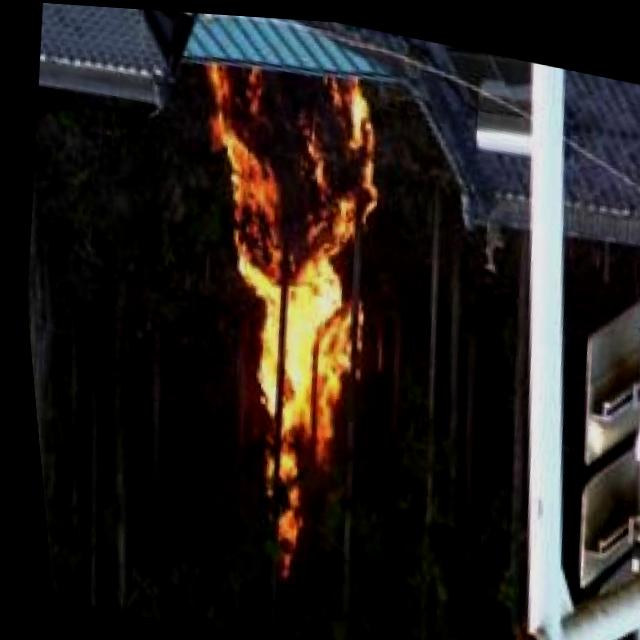Fire: (149, 40, 420, 567)
